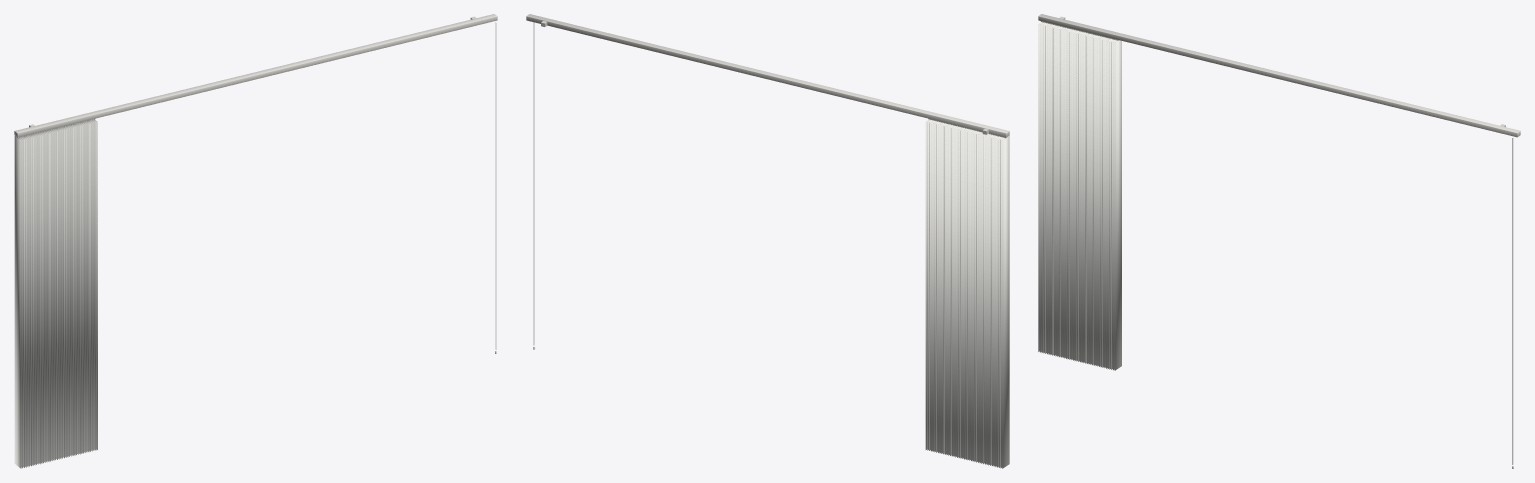
Rendered from cortina_vertical_360_c0.glb.
3 renders of one model, left to right at view 1: azimuth 30°, elevation 25°; view 2: azimuth 150°, elevation 25°; view 3: azimuth 330°, elevation 25°, orthographic.
Visible parts, largest first — view 1: cortina_vertical_360_c0; view 2: cortina_vertical_360_c0; view 3: cortina_vertical_360_c0.
Boxes of the visible parts, left/top/right/bottom form: cortina_vertical_360_c0: left=14, top=14, right=497, bottom=468; cortina_vertical_360_c0: left=526, top=14, right=1009, bottom=468; cortina_vertical_360_c0: left=1038, top=14, right=1520, bottom=468.
Size of the model in its own units: 3.59 by 2.4 by 0.0995.
Materials: 3 (1 with a texture image).
